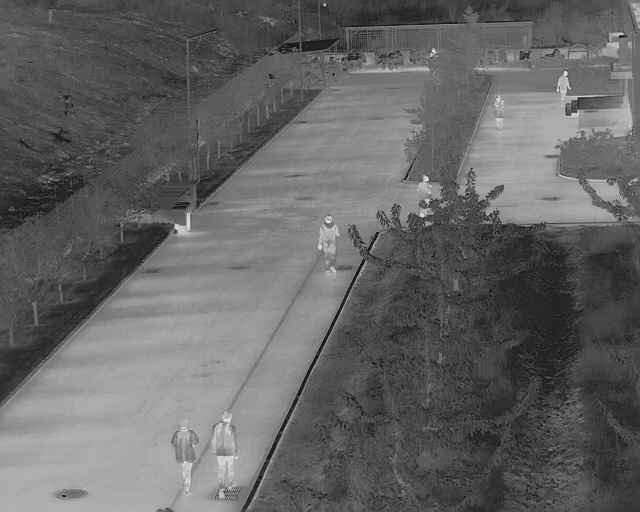person: (209, 409, 240, 497), (170, 416, 197, 496), (317, 213, 339, 276), (557, 65, 572, 109), (491, 93, 508, 130)
